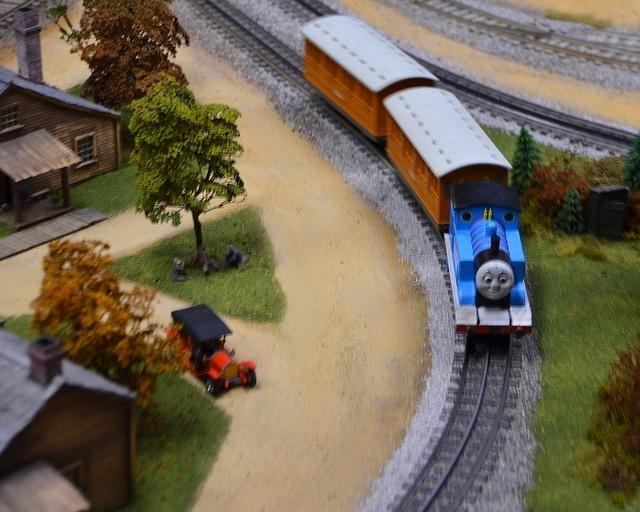car: (166, 302, 257, 398)
truck: (166, 304, 256, 400)
